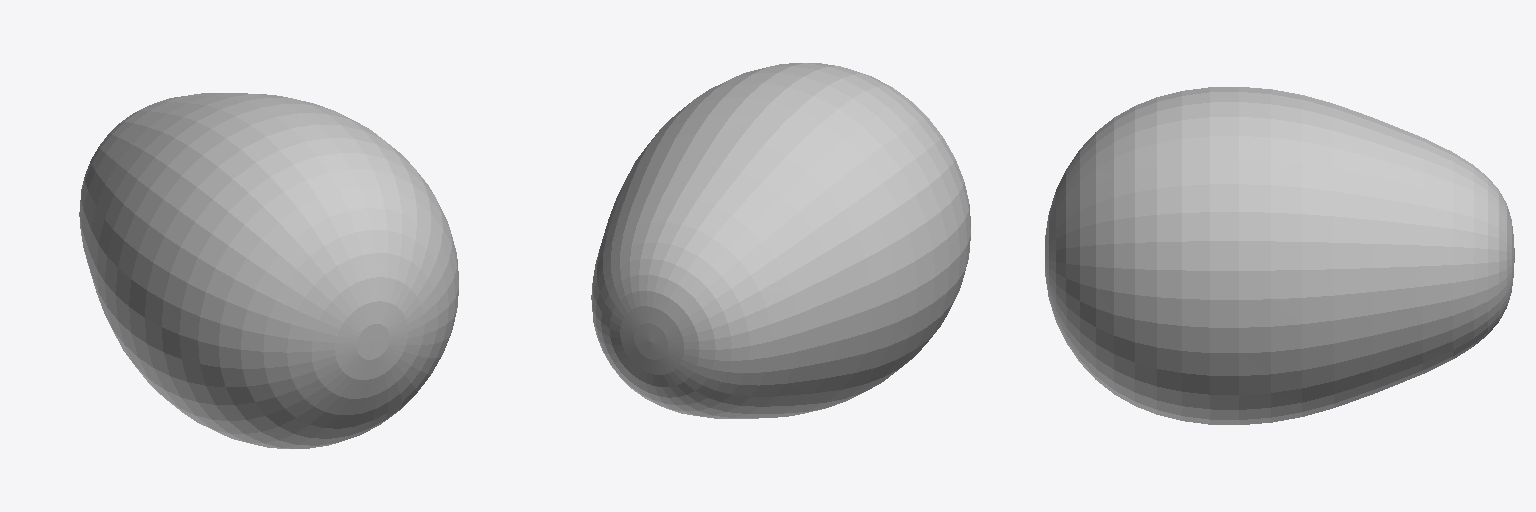
Rendered from head_ascii.obj.
The picture shows the model from 3 angles: view 1: azimuth 30°, elevation 25°; view 2: azimuth 150°, elevation 25°; view 3: azimuth 270°, elevation 25°; orthographic projection.
Parts seen in each view (by area): view 1: Object__0; view 2: Object__0; view 3: Object__0.
Boxes of the visible parts, x1,y1,x2,y2 form: Object__0: [79, 93, 458, 448]; Object__0: [591, 63, 970, 418]; Object__0: [1045, 87, 1514, 424].
Bounding box in the file's own units: 0.1737 × 0.1737 × 0.24.